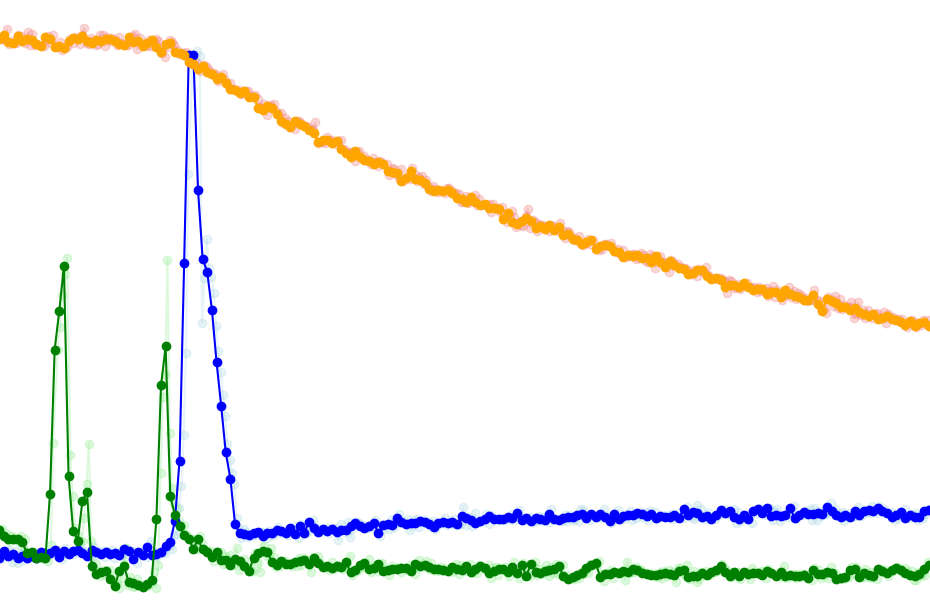CO2 Problem: (221, 0, 554, 616), (665, 0, 928, 616), (0, 0, 221, 616)
Condensation (CO2): (554, 0, 886, 616)
High O2: (221, 0, 554, 616), (665, 0, 928, 616), (0, 0, 221, 616)
Low CO2: (221, 0, 554, 616), (665, 0, 928, 616), (0, 0, 221, 616), (554, 0, 665, 616)
Normal: (554, 0, 928, 616), (221, 0, 554, 616), (554, 0, 886, 616), (665, 0, 928, 616), (0, 0, 221, 616), (665, 0, 886, 616), (554, 0, 665, 616)
O2 Problem: (221, 0, 554, 616), (665, 0, 928, 616), (0, 0, 221, 616), (665, 0, 886, 616)
